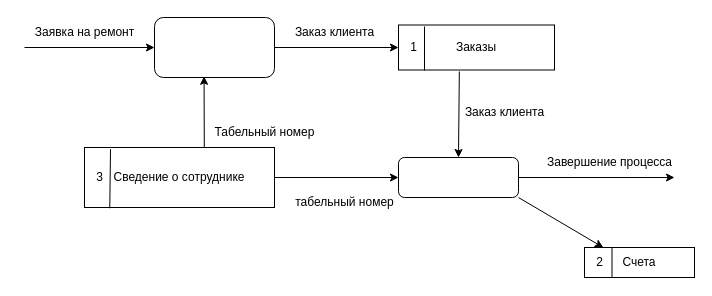
The diagram is 712 pixels wide and 296 high, and some of its shapes have lost their labels. The shapes that lost their labels are listed below. From the top down, each one's centre as x and y in pixels, then its label:
At pixel 214 47: "Прием в ремонт".
At pixel 458 177: "Выдача из ремонта".
